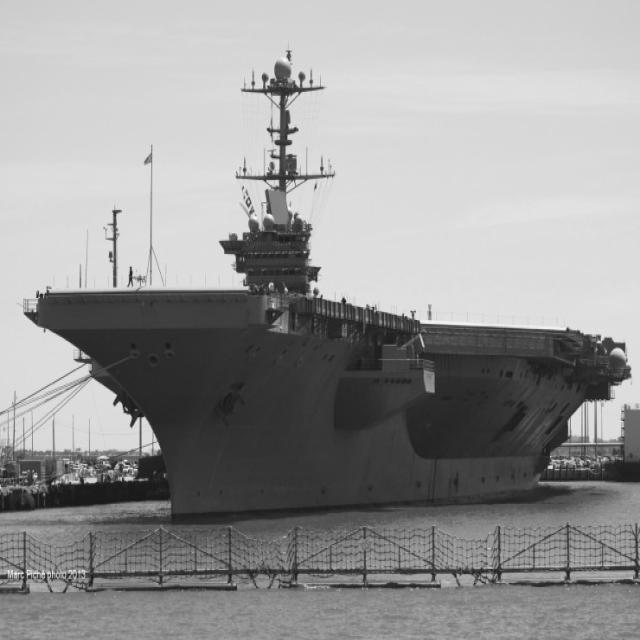Portanaves: (20, 44, 640, 530)
